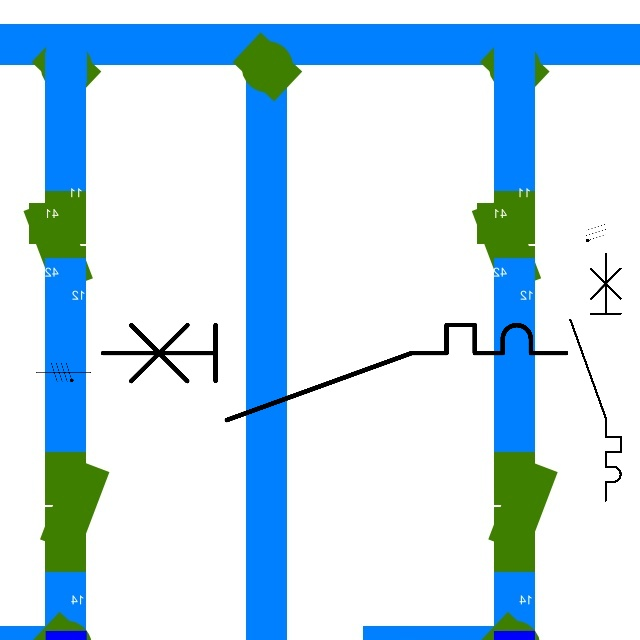interruptor_termomagnetico: (91, 313, 578, 432), (564, 247, 627, 507)
